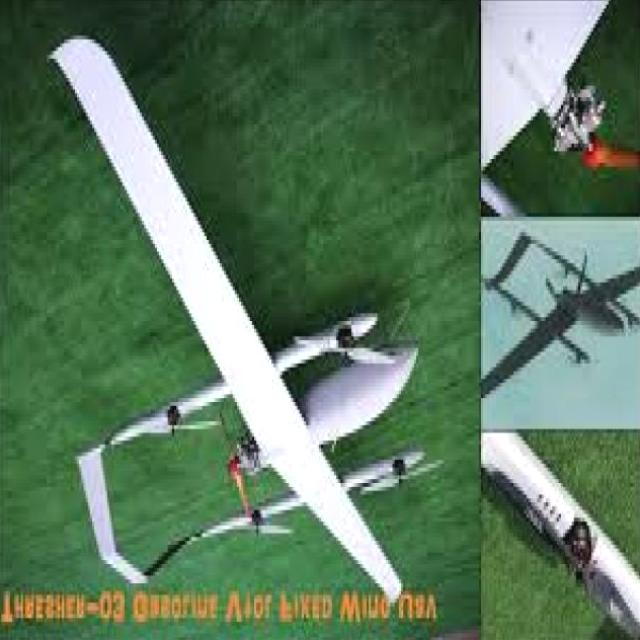plane: (46, 36, 438, 606), (479, 228, 640, 398)
